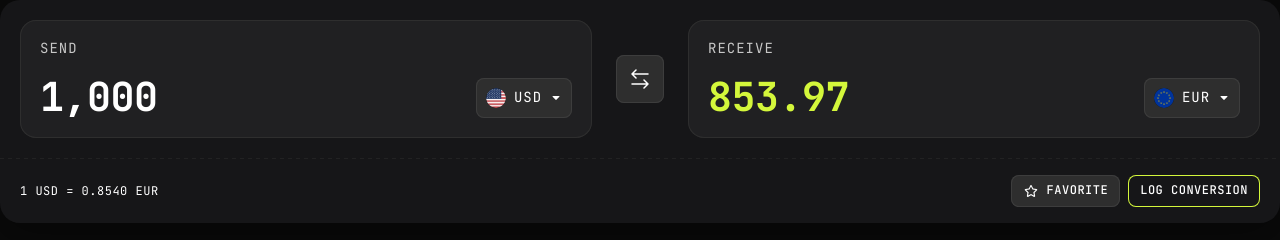
Converter › converts from the send amount as it is edited
The width and height of the screenshot is (1280, 240).
Replace the text in the field named "Amount" below "Send" with "2500". click: point(99, 97)
box: [40,77,158,118]
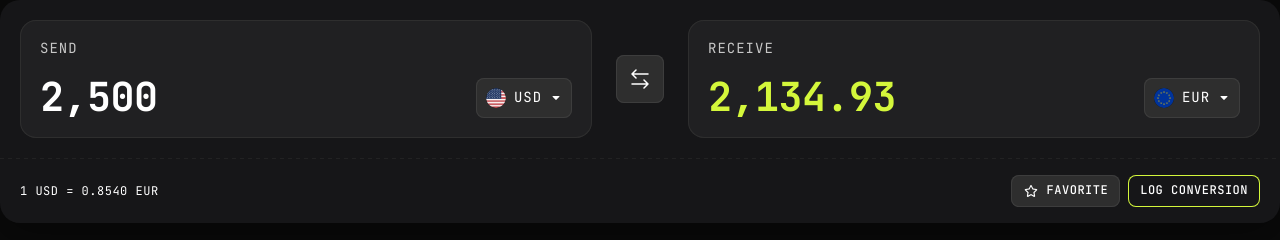
Now the field named "Amount" below "Send" holds "2,500", box [40,77,158,118]
Now the field named "Amount" below "Receive" holds "2,134.93", box [708,77,896,118]
